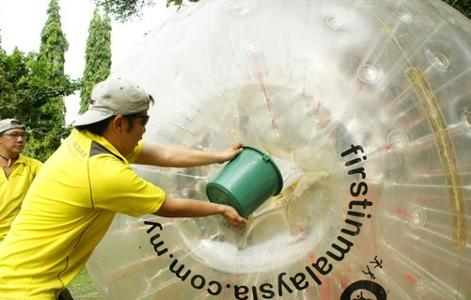person: (2, 78, 249, 300)
